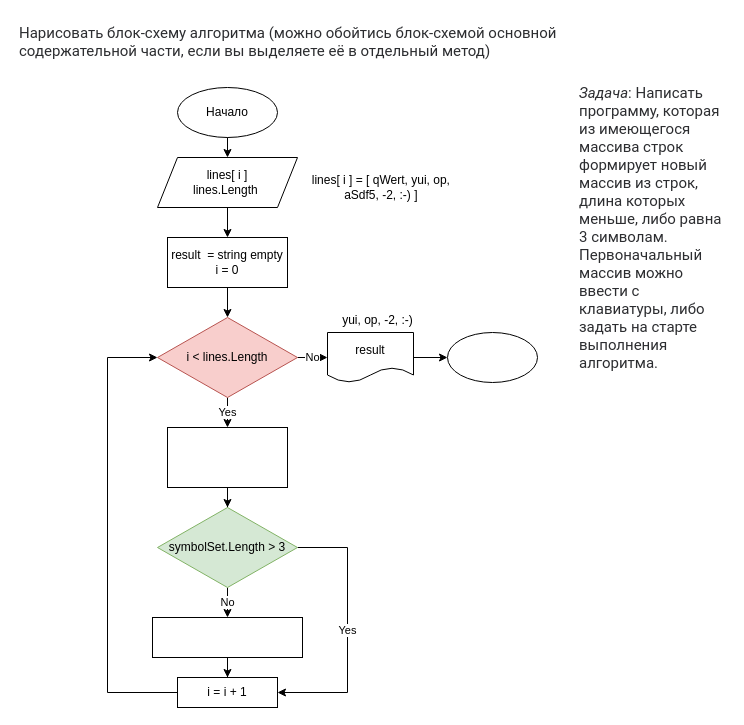
Some shapes in this 744 by 725 pixel diagram are drawn without their labels. The shapes that lost their labels are listed below. From the top down, each one's centre as x and y in pixels, then its label:
the point at 492,357: конец
the point at 227,457: symbolSet = lines [ i ] symbolSet [ ] symbolSet.Length
the point at 227,637: result = result + lines [ i ]
